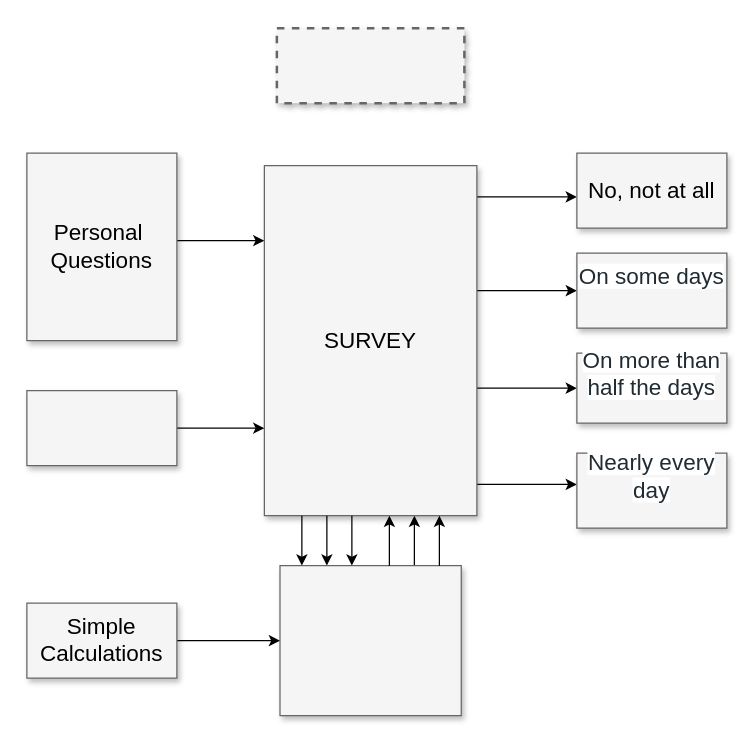
Image size: 756x746. Some labels were removed from this diagram. The centre of each missing label's shape, as x and y in pixels:
"Anxiety & Depression score" goes at (371,641).
"Mind Matters" goes at (371,66).
"Physiological situations" goes at (102,429).
